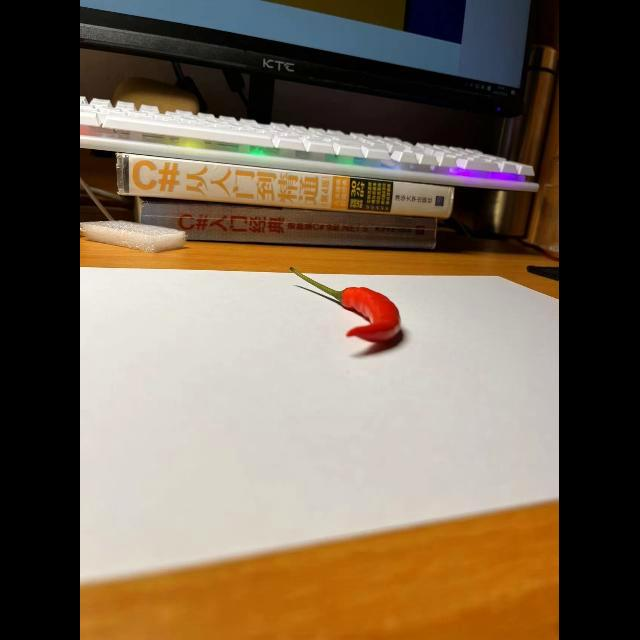chili_pepper: (284, 273, 412, 353)
